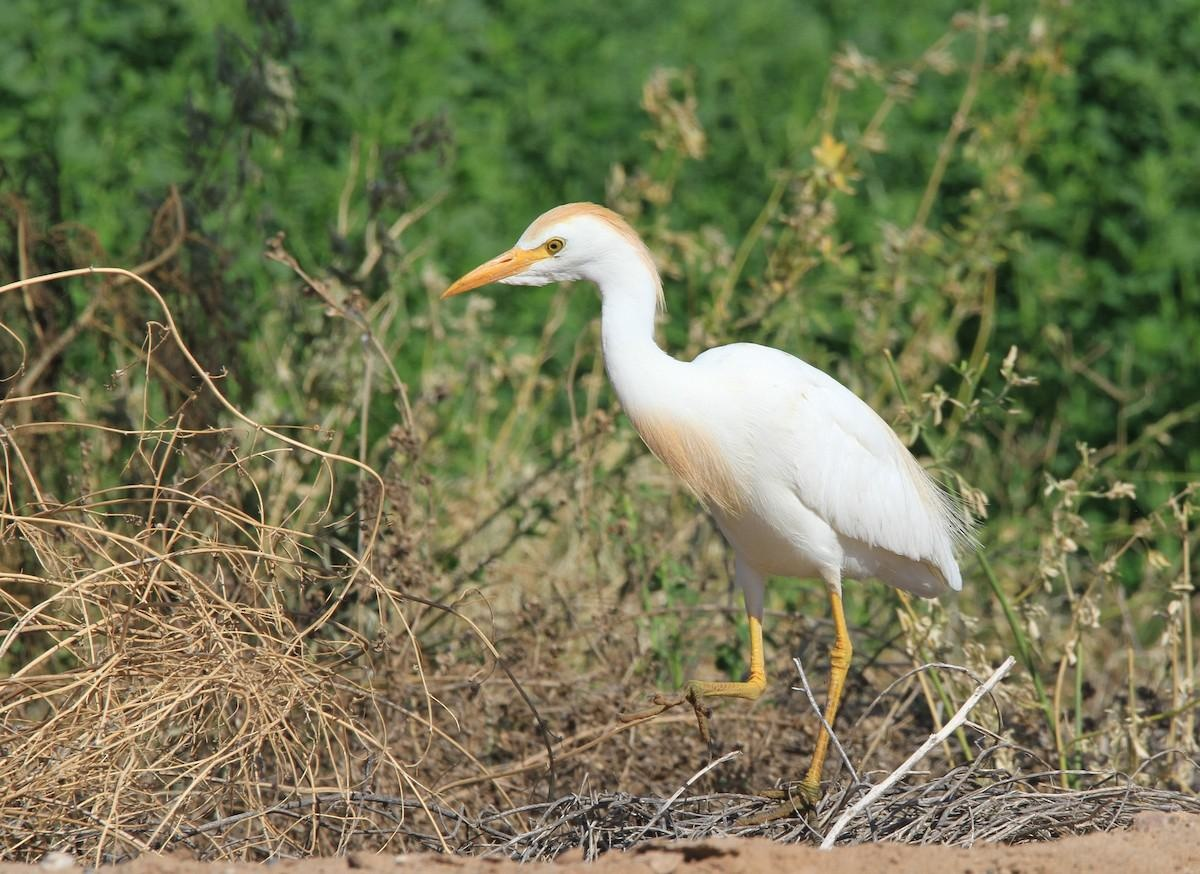egret: (453, 190, 1008, 745)
